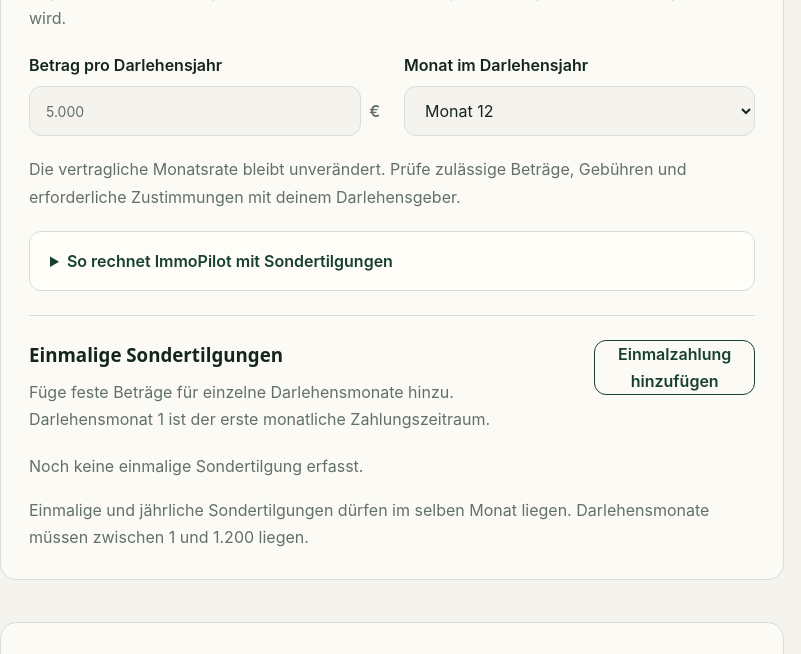
Test case: FinancingPage › requires complete rows and rejects duplicate one-time repayment months
The width and height of the screenshot is (801, 654).
(page scrolled)
Click the button "Einmalzahlung hinzufügen" at [675, 368], box [594,340,755,395]
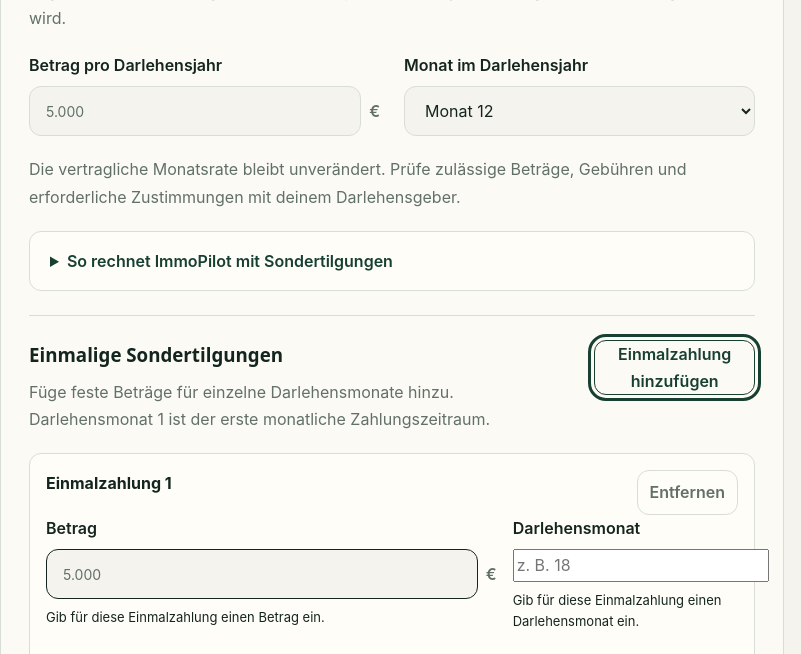
expect the text "Gib für diese Einmalzahlung einen Betrag ein." is shown: met, box [46,609,325,625]
expect the text "Gib für diese Einmalzahlung einen Darlehensmonat ein." is shown: met, box [513,590,738,632]
Type "1.000" into the field named "Betrag für Einmalzahlung 1" at [262, 574], box [46,549,478,599]
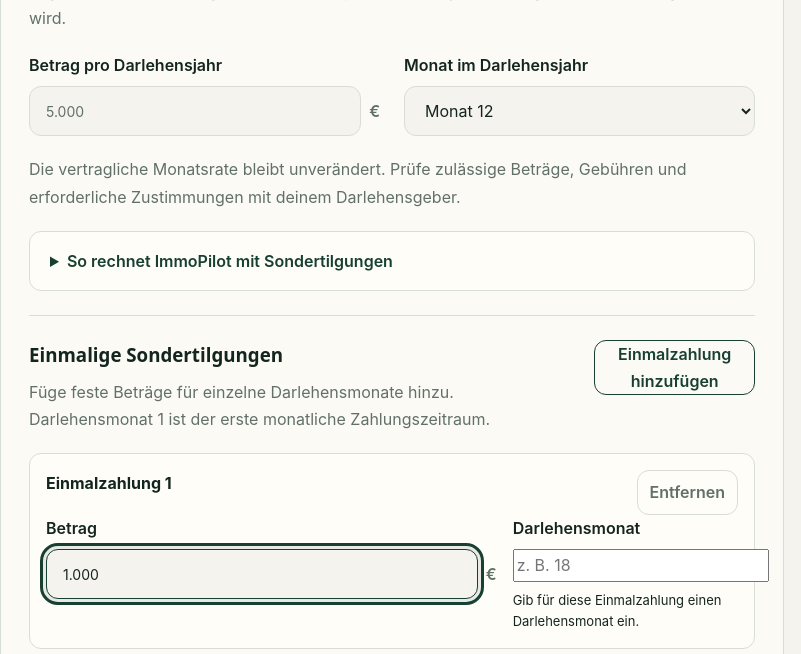
Type "12" into the field named "Darlehensmonat für Einmalzahlung 1" at [641, 565], box [513,549,769,582]
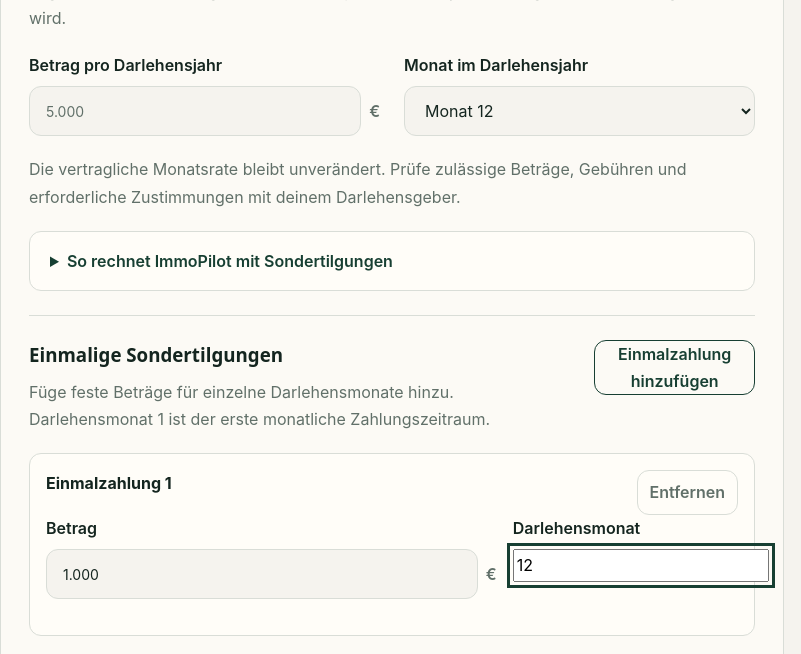
Click the button "Einmalzahlung hinzufügen" at [675, 368], box [594,340,755,395]
(page scrolled)
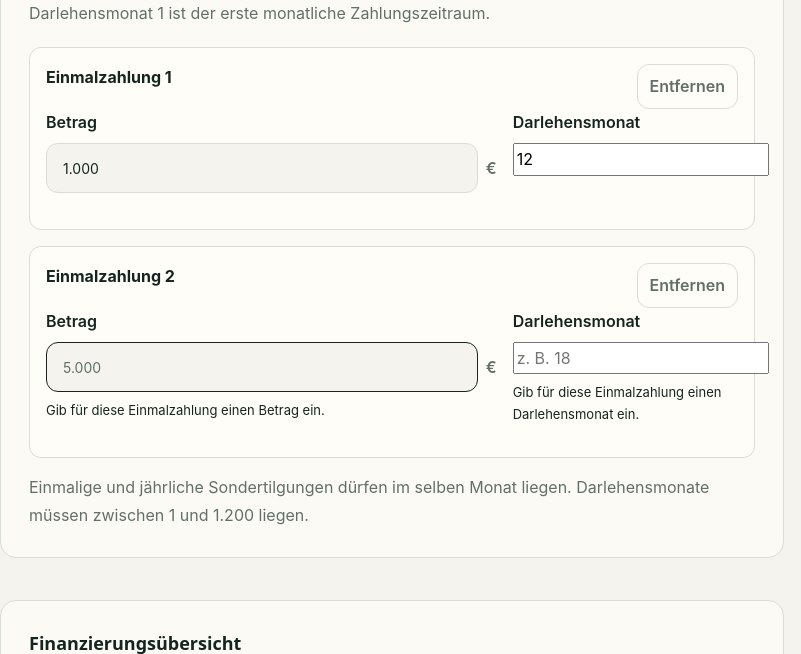
Type "2.000" into the field named "Betrag für Einmalzahlung 2" at [262, 367], box [46,342,478,392]
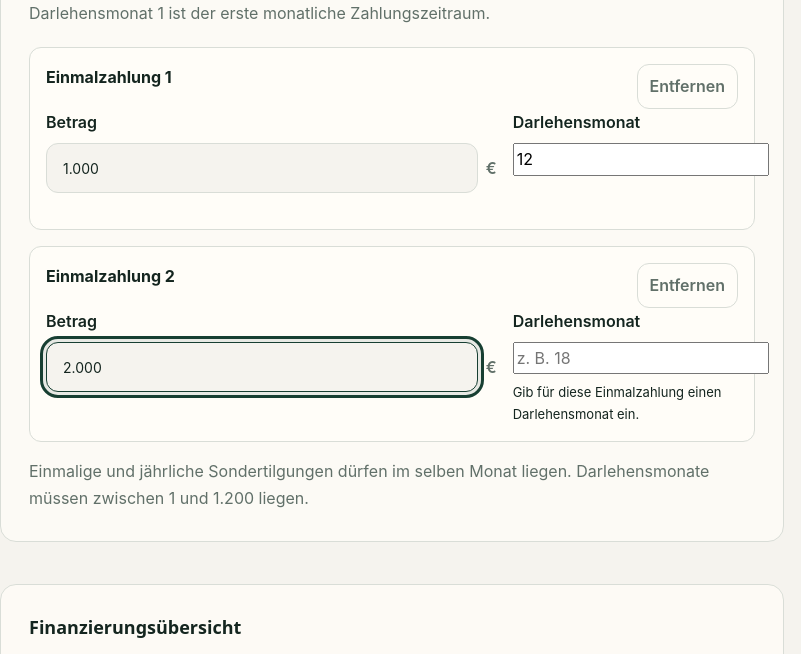
Type "12" into the field named "Darlehensmonat für Einmalzahlung 2" at [641, 358], box [513,342,769,374]
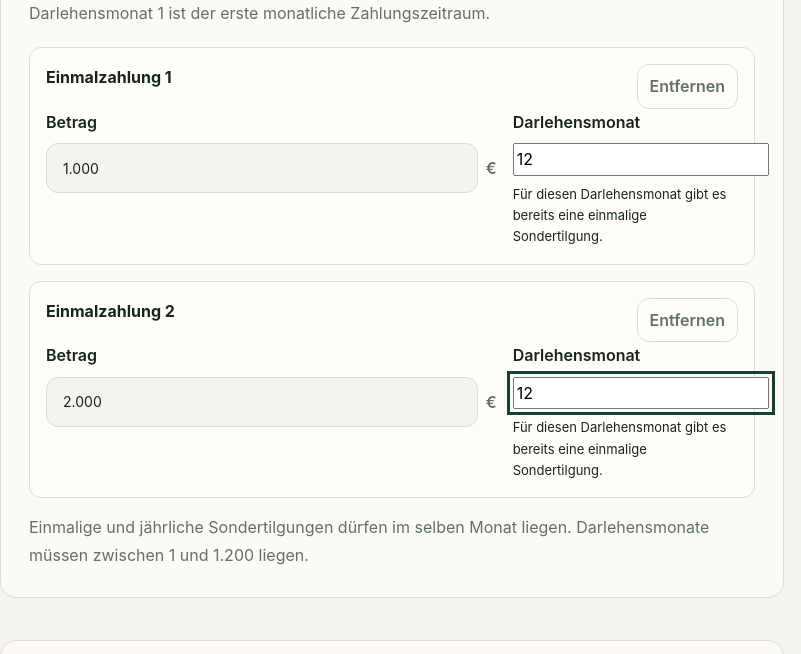
expect the text "Für diesen Darlehensmonat gibt es bereits eine einmalige Sondertilgung." is shown 2 times: met, box [513,184,738,248]; [513,417,738,481]
